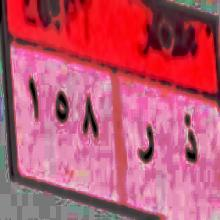1: (24, 71, 42, 128)
5: (54, 86, 70, 126)
8: (79, 89, 99, 146)
raa: (138, 117, 156, 174)
zaal: (181, 107, 198, 172)
